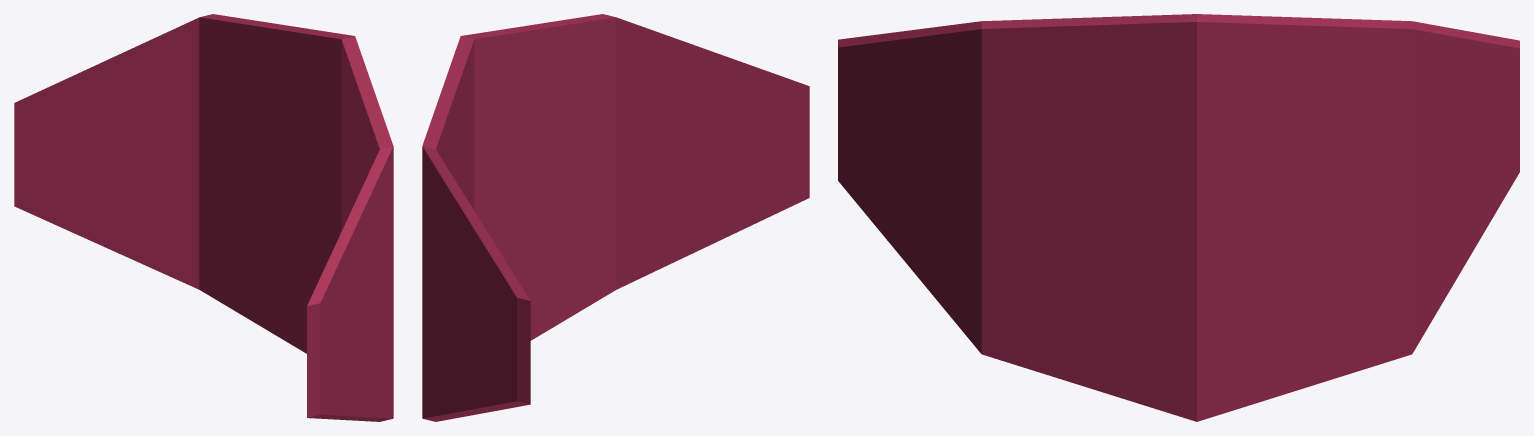
File: redOnionPeel.obj
3 renders of one model, left to right at view 1: azimuth 30°, elevation 25°; view 2: azimuth 150°, elevation 25°; view 3: azimuth 270°, elevation 25°, orthographic. The views are drawn at different scales.
Parts seen in each view (by area): view 1: onionPeel; view 2: onionPeel; view 3: onionPeel.
Boxes of the visible parts, x1=… form: onionPeel: x1=14, y1=14, x2=393, y2=421; onionPeel: x1=422, y1=14, x2=809, y2=421; onionPeel: x1=838, y1=14, x2=1519, y2=421.
Size of the model in its own units: 0.0788 by 0.123 by 0.19.
